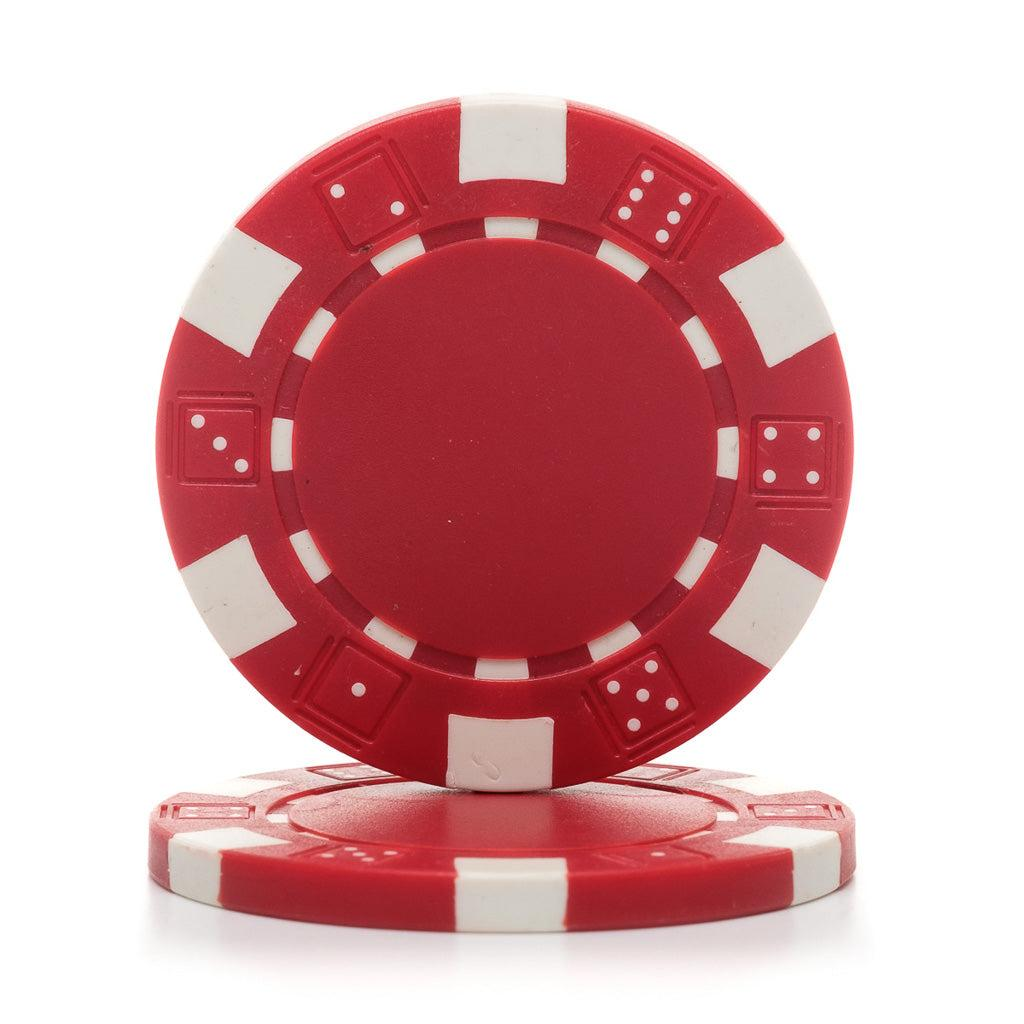chip-red: (158, 96, 852, 792), (152, 764, 854, 932)
